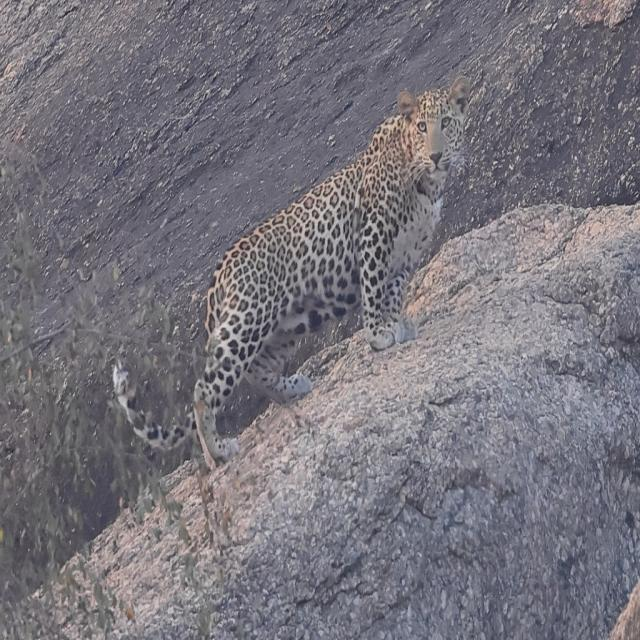Leopard: (113, 76, 471, 470)
